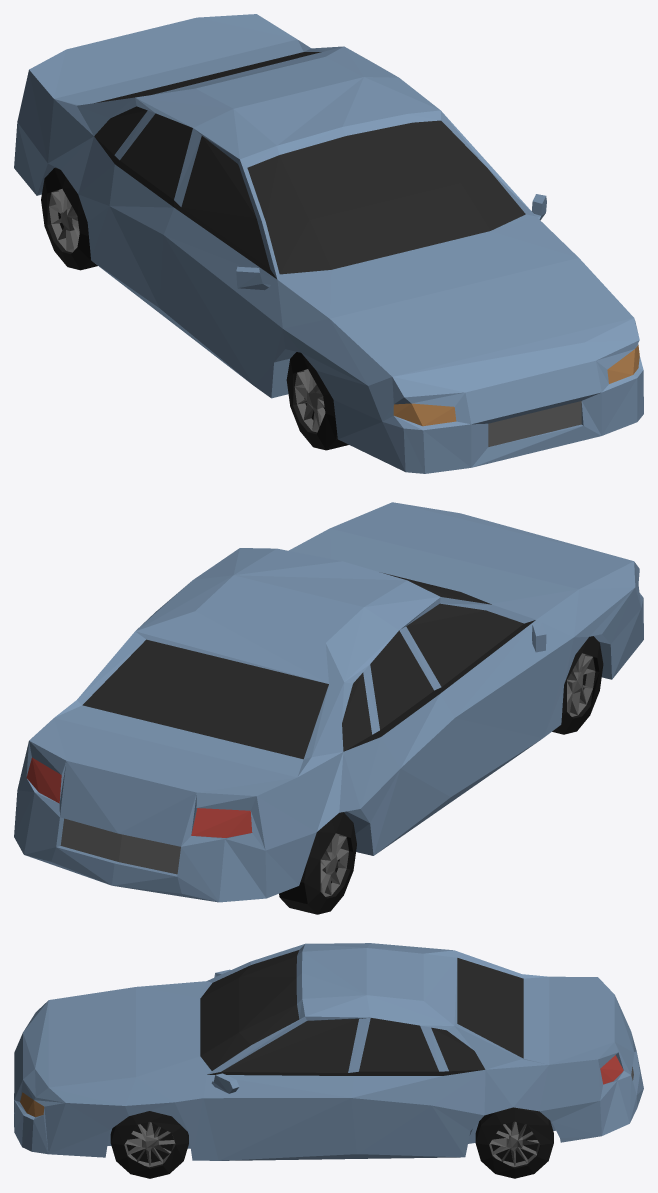
File: car2.glb
The picture shows the model from 3 angles, top to bottom: view 1: azimuth 30°, elevation 25°; view 2: azimuth 150°, elevation 25°; view 3: azimuth 270°, elevation 25°; orthographic projection. The views are drawn at different scales.
Visible parts, largest first — view 1: NormalCar1_Cube.012; view 2: NormalCar1_Cube.012; view 3: NormalCar1_Cube.012.
Boxes of the visible parts, x1,y1,x2,y2 form: NormalCar1_Cube.012: (14, 14, 643, 473); NormalCar1_Cube.012: (14, 502, 643, 914); NormalCar1_Cube.012: (14, 943, 643, 1178).
Size of the model in its own units: 1.79 by 1.18 by 4.21.
